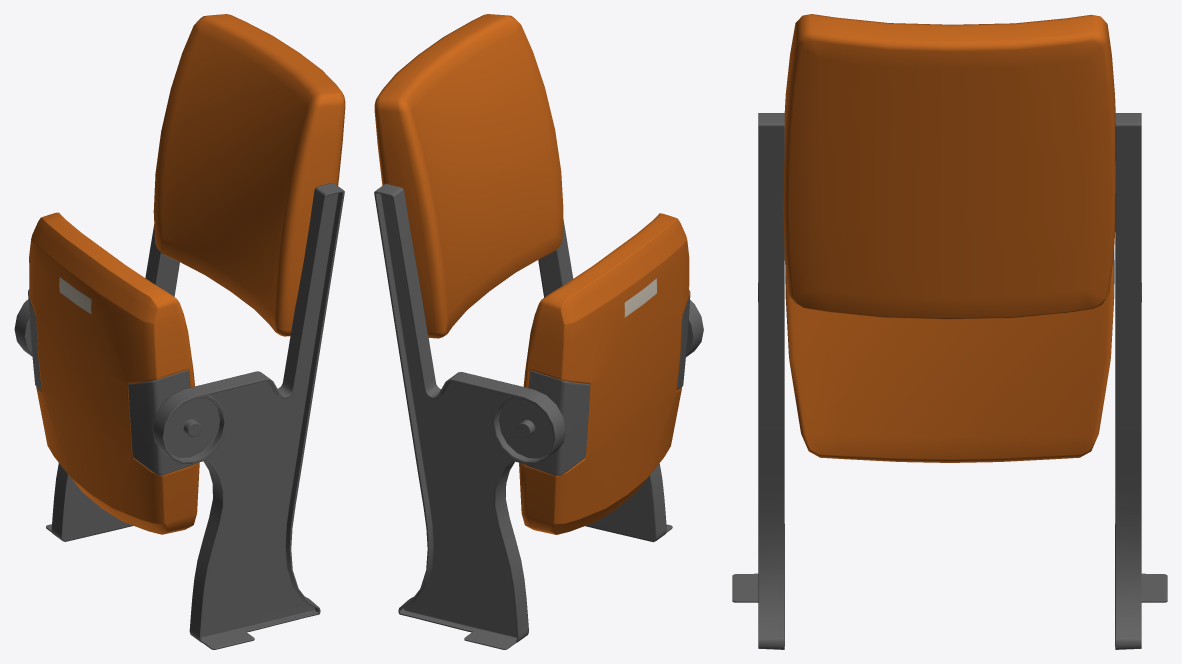
Rendered from SM_070_Chair_2.fbx.
The picture shows the model from 3 angles, left to right: view 1: azimuth 30°, elevation 25°; view 2: azimuth 150°, elevation 25°; view 3: azimuth 270°, elevation 25°; orthographic projection. The views are drawn at different scales.
Visible parts, largest first — view 1: SM_070_Chair_2; view 2: SM_070_Chair_2; view 3: SM_070_Chair_2.
Boxes of the visible parts, left/top/right/bottom form: SM_070_Chair_2: left=14, top=14, right=345, bottom=649; SM_070_Chair_2: left=374, top=14, right=703, bottom=649; SM_070_Chair_2: left=732, top=14, right=1167, bottom=649.
Bounding box in the file's own units: 46.88 × 60.47 × 99.41.
1 material, 1 textured.
